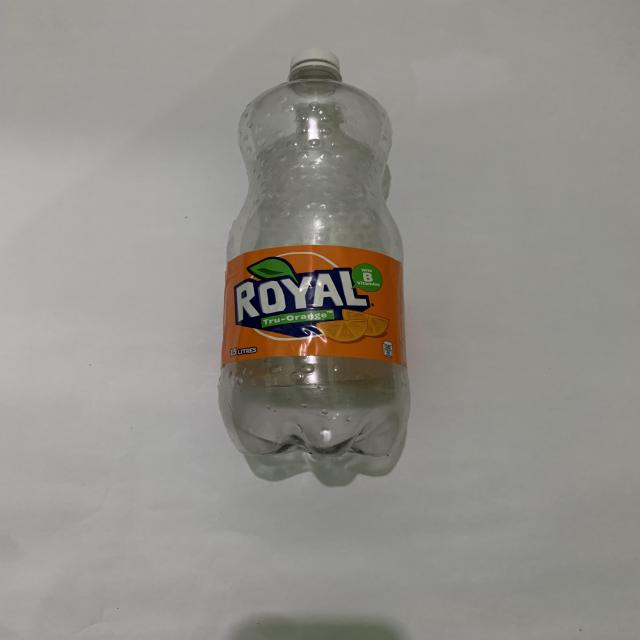bottle: (216, 60, 413, 448)
